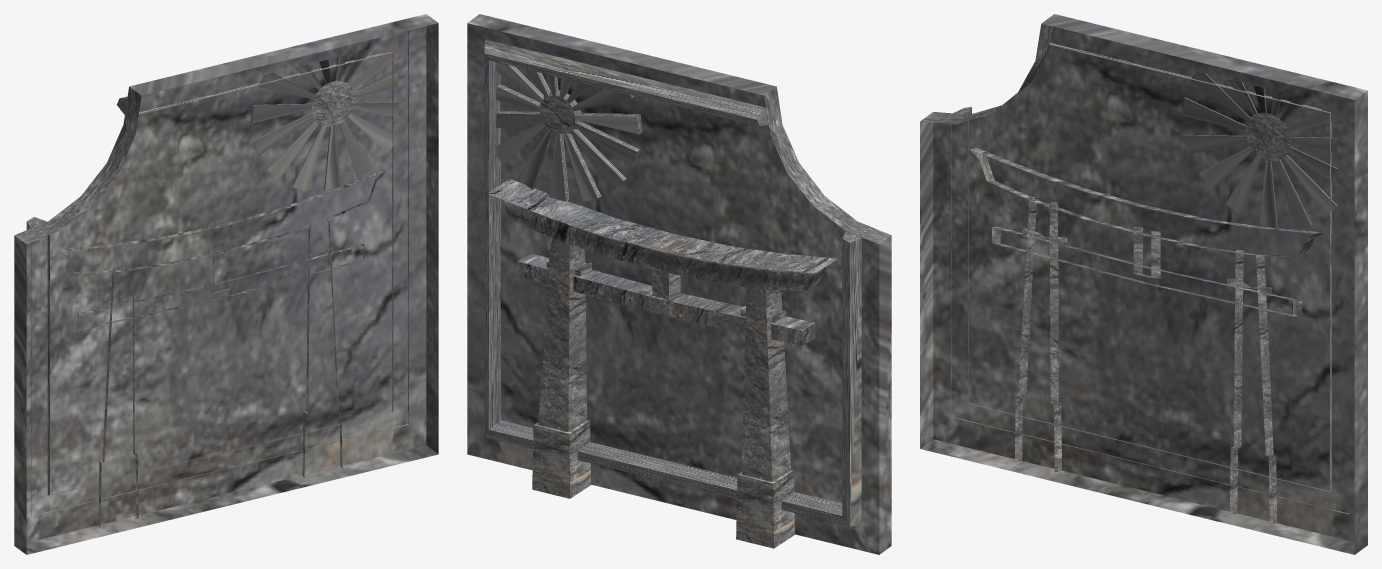
File: Ico1.fbx
3 views of the same model, side by side, from view 1: azimuth 30°, elevation 25°; view 2: azimuth 150°, elevation 25°; view 3: azimuth 330°, elevation 25° (orthographic). The views are drawn at different scales.
Parts seen in each view (by area): view 1: Ico1; view 2: Ico1; view 3: Ico1.
Part boxes in pixels (bbox=[...]): Ico1: bbox=[14, 14, 438, 554]; Ico1: bbox=[467, 14, 891, 554]; Ico1: bbox=[920, 14, 1367, 554].
Size of the model in its own units: 5.62 by 5.7 by 0.6587.
